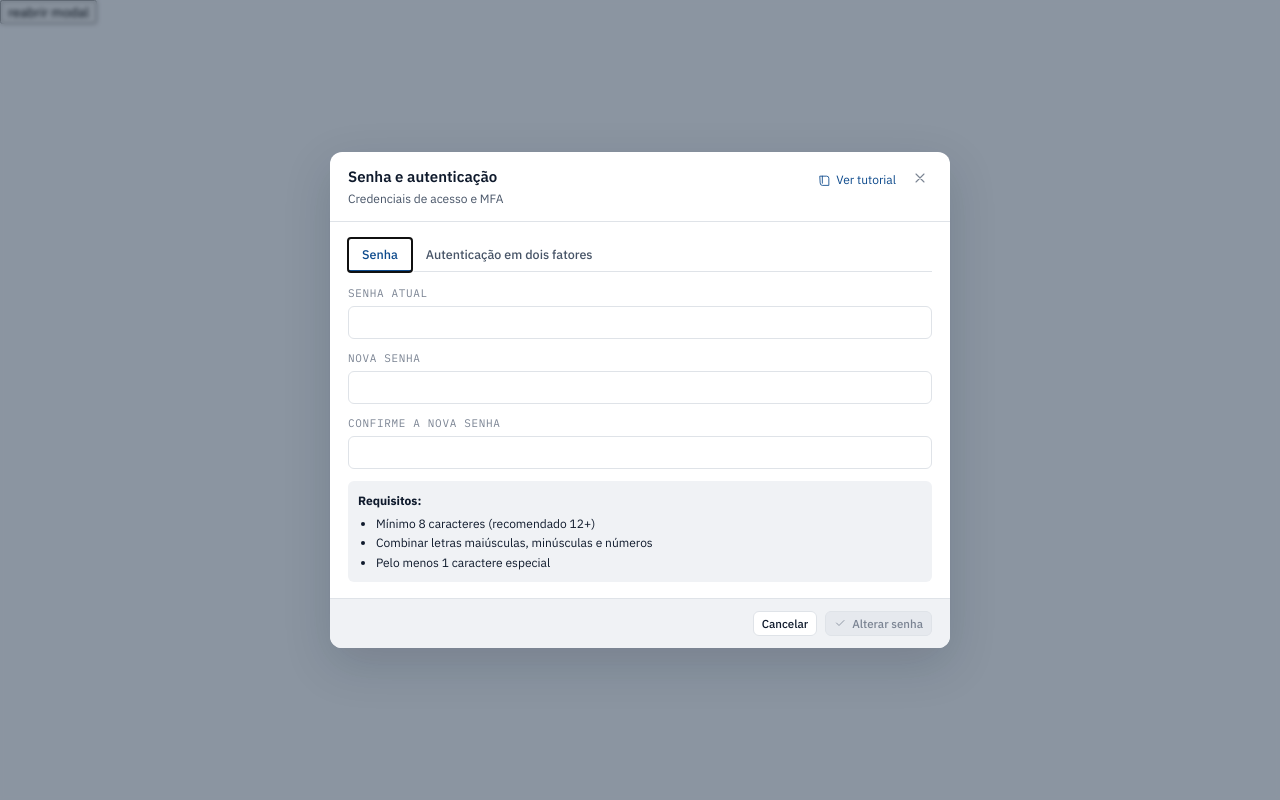
Scenario: FormSenha2FA — códigos de recuperação › gerar novos códigos pede o código na própria aba e o envia ao endpoint
Click the button "Autenticação em dois fatores".
click(509, 255)  # box [412, 238, 606, 272]
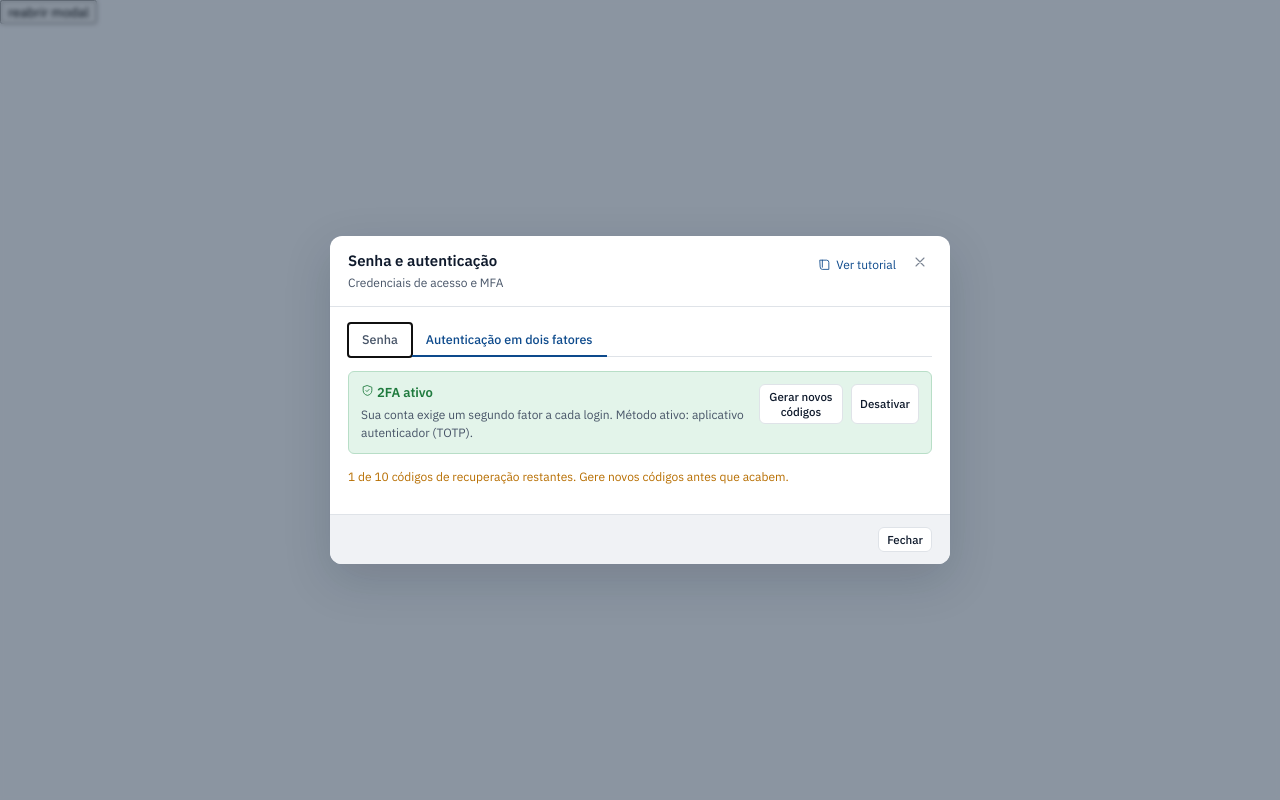
Click the button "Gerar novos códigos".
click(801, 404)  # box [759, 384, 843, 424]
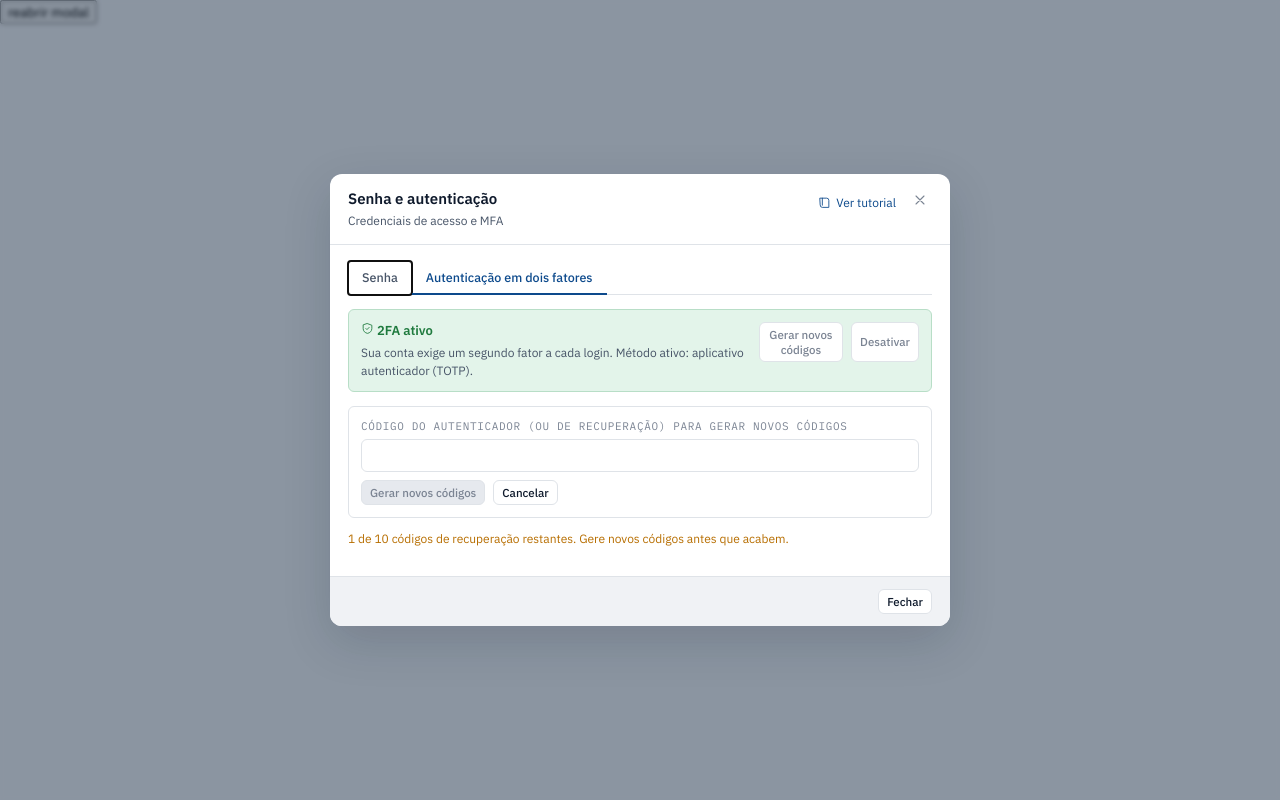
Result: the 2nd button "Gerar novos códigos" is disabled at [361, 480, 485, 505]
Type "123456" into the field labelled "para gerar novos códigos".
click(640, 456); type("123456")  # box [361, 439, 919, 472]
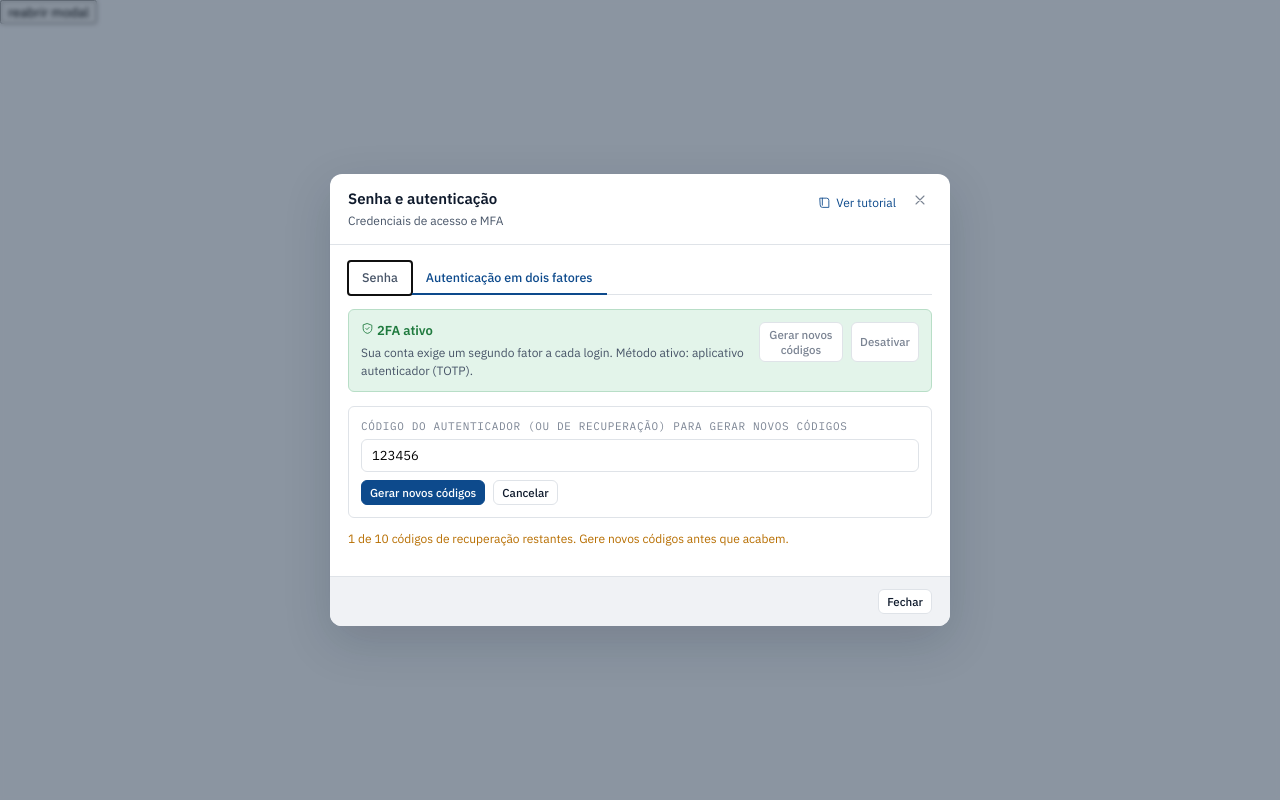
Click the 2nd button "Gerar novos códigos".
click(423, 493)  # box [361, 480, 485, 505]
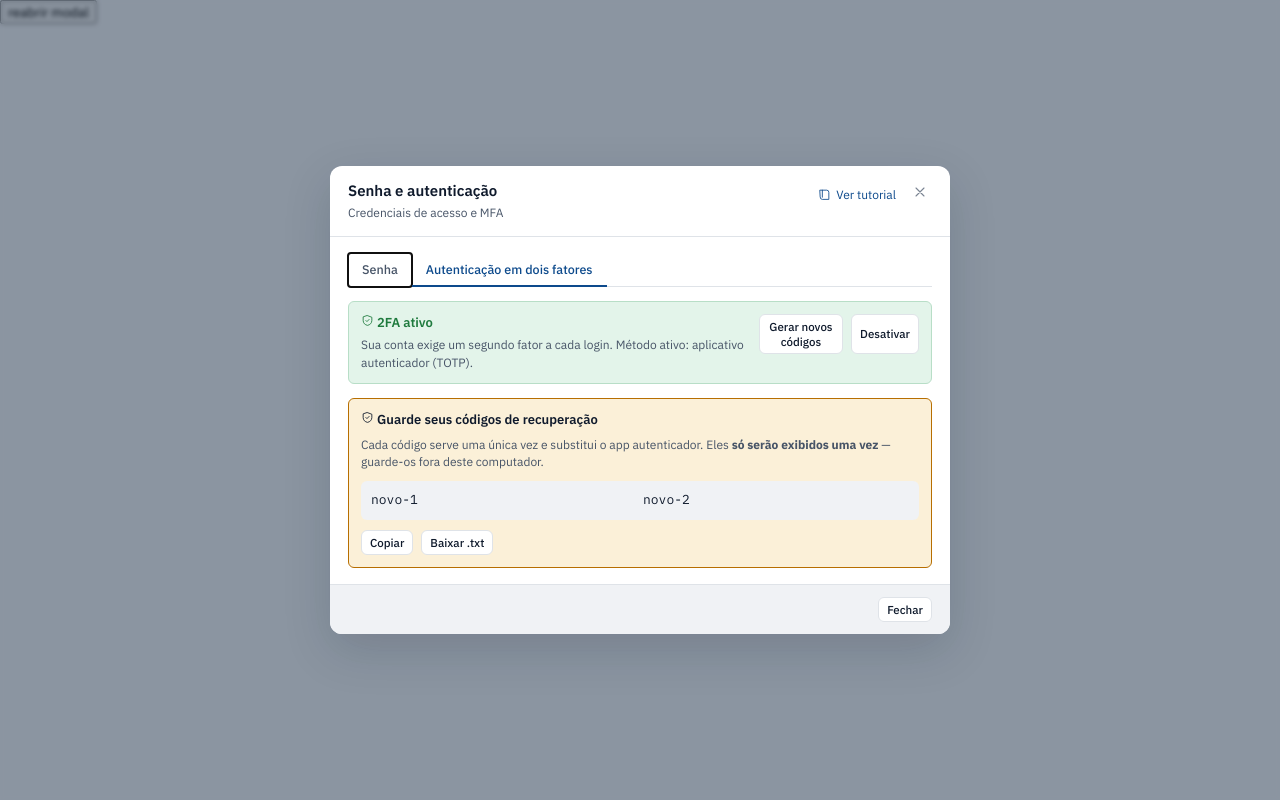
Result: the text "novo-1" is shown at [371, 491, 418, 508]
